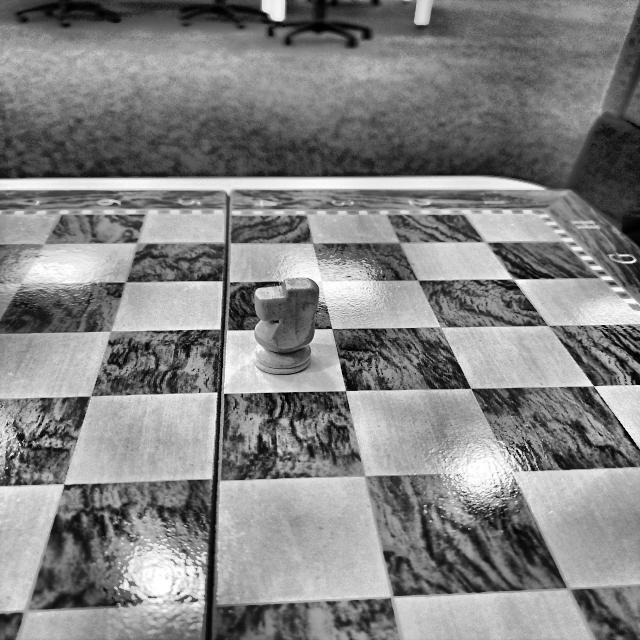white-knight: (251, 278, 319, 374)
